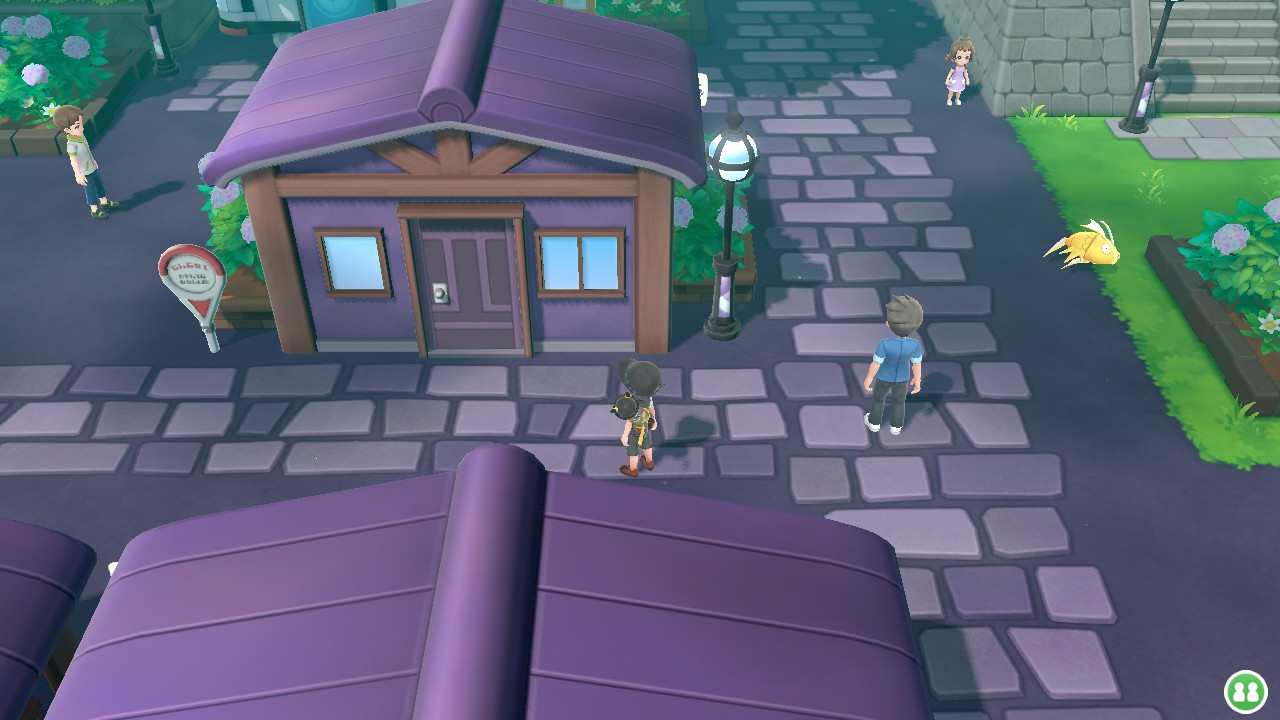Golden: (1043, 220, 1121, 272)
